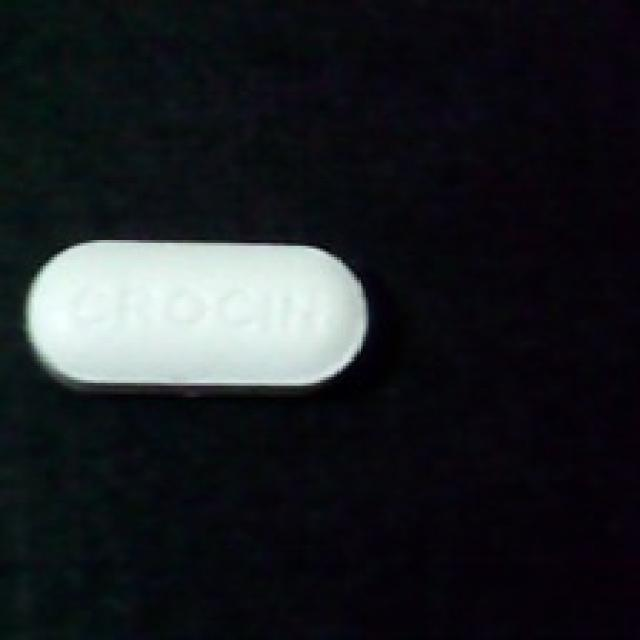no-defect: (20, 229, 377, 400)
